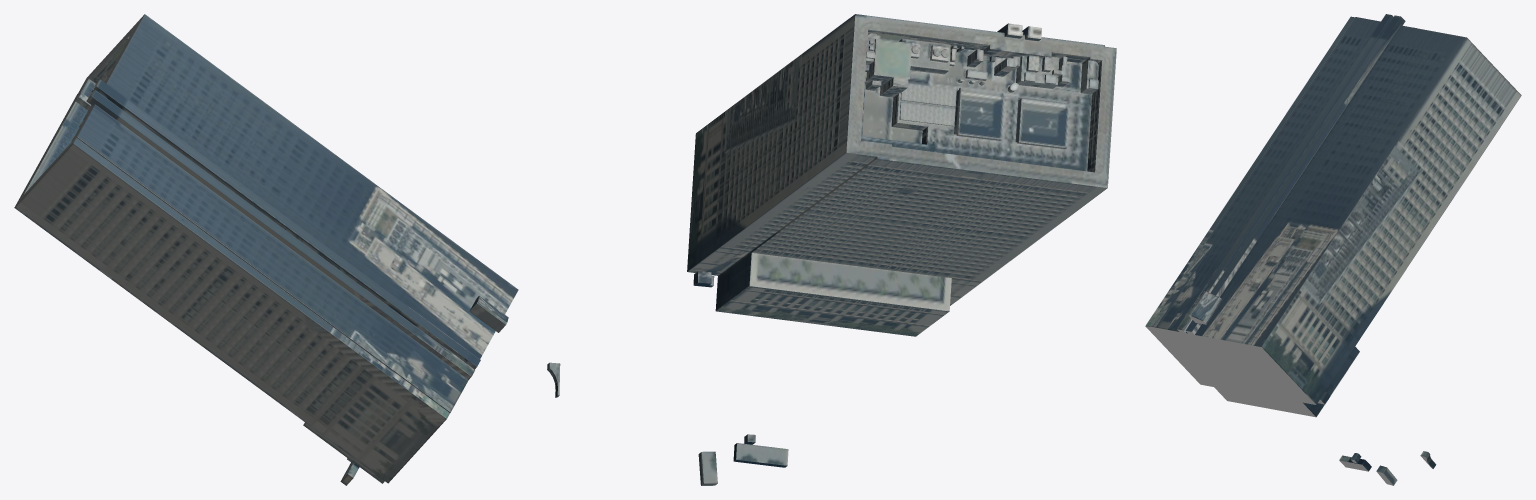
File: data434.glb
3 views of the same model, side by side, from view 1: azimuth 30°, elevation 25°; view 2: azimuth 150°, elevation 25°; view 3: azimuth 270°, elevation 25° (orthographic). The views are drawn at different scales.
Size of the model in its own units: 176 by 174 by 156.
Materials: 4 (2 with a texture image).
